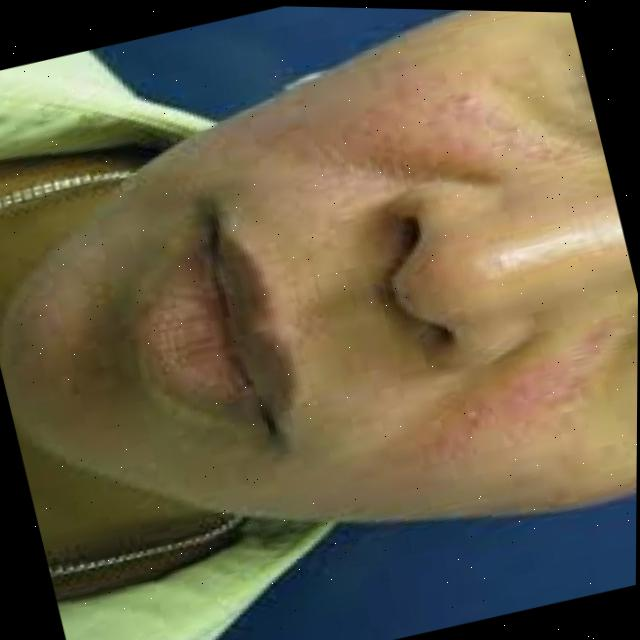Rosacea: (294, 27, 518, 199), (413, 339, 614, 487)
